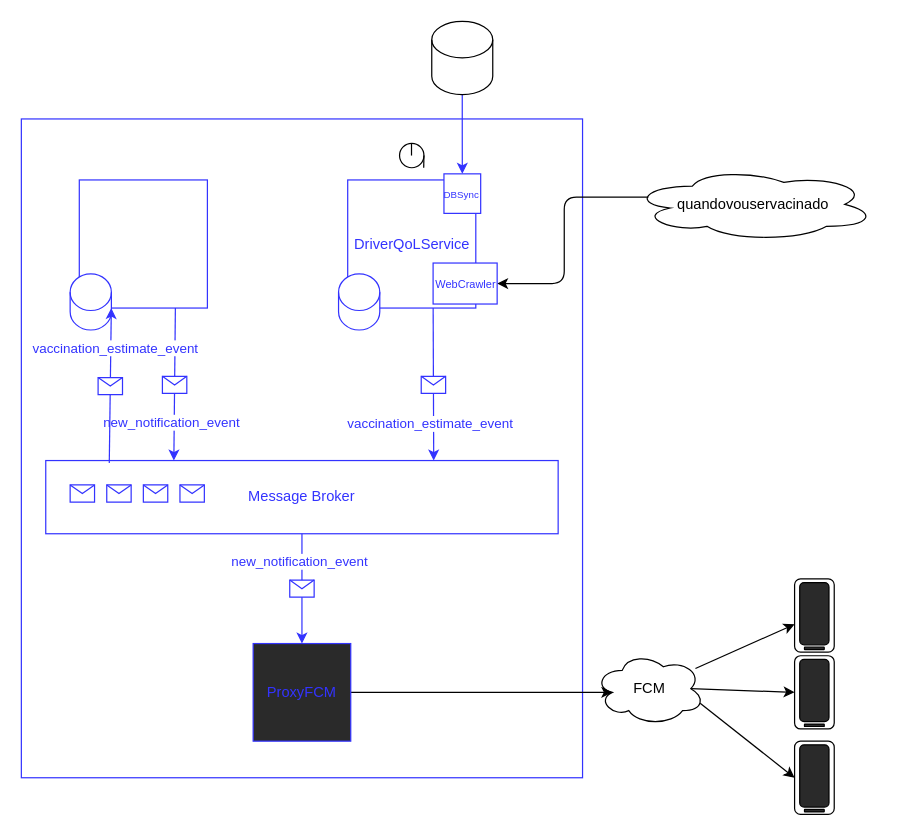
The diagram is 897 pixels wide and 836 high, and some of its shapes have lost their labels. The shapes that lost their labels are listed below. From the top down, each one's box as (x1, y1, x2, y2) in pixels, then its label:
(431, 20, 493, 95): DriverDB
(78, 179, 207, 308): NotificationService
(20, 118, 583, 778): VaccinationPredictionSystem
